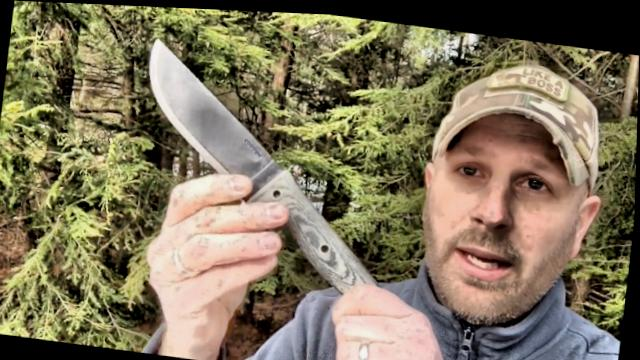knife: (125, 31, 328, 235)
